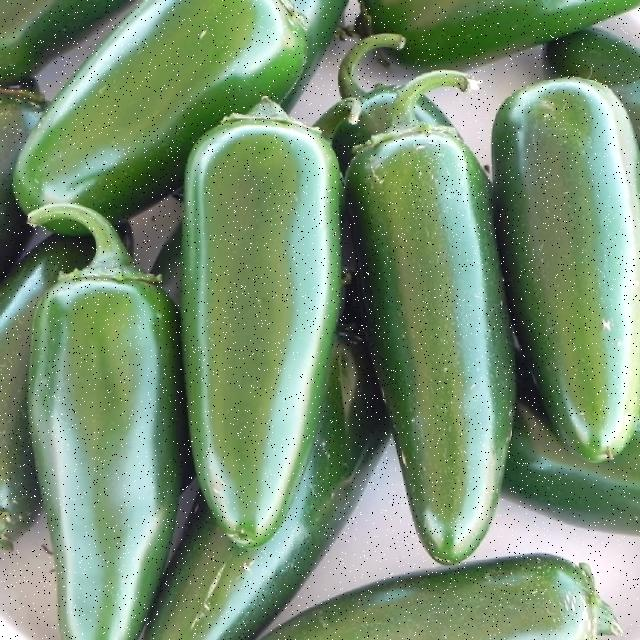Chili Pepper: (350, 111, 530, 564), (180, 112, 354, 561), (7, 10, 352, 224), (8, 261, 194, 631), (493, 84, 640, 460)
